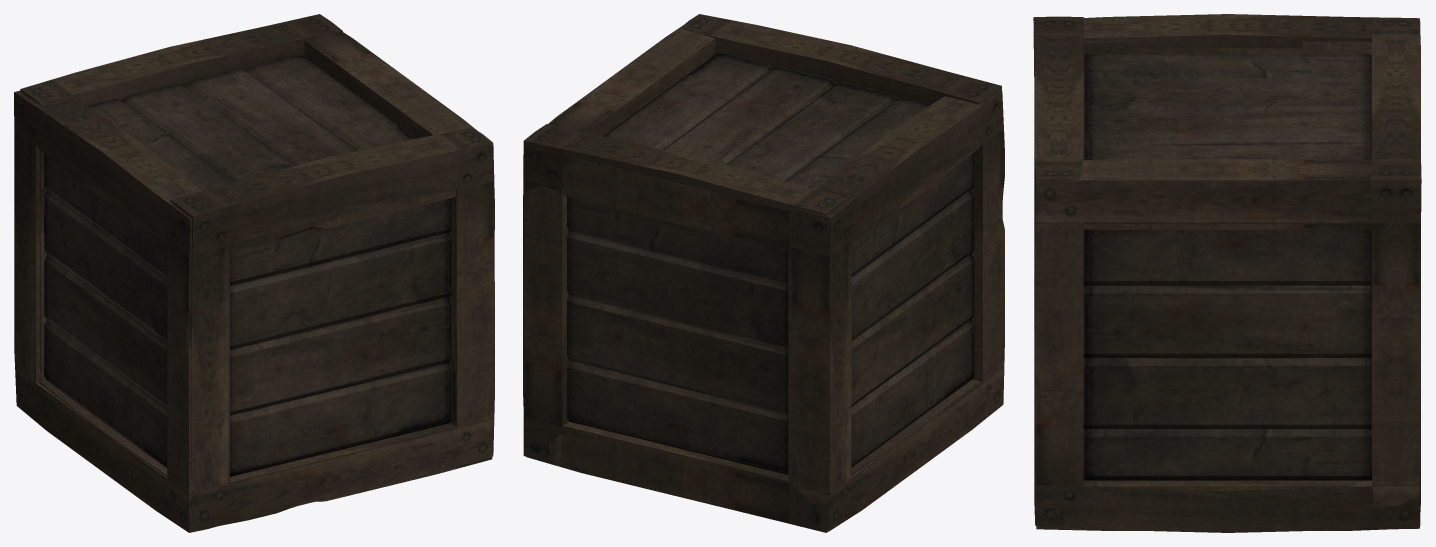
Rendered from BoxTest.fbx.
The picture shows the model from 3 angles, left to right: view 1: azimuth 30°, elevation 25°; view 2: azimuth 150°, elevation 25°; view 3: azimuth 270°, elevation 25°; orthographic projection. The views are drawn at different scales.
Visible parts, largest first — view 1: wooden_crate_5.003, wooden_crate_5.004, wooden_crate_5, wooden_crate_5.002, wooden_crate_5.005, wooden_crate_5.001; view 2: wooden_crate_5.004, wooden_crate_5.002, wooden_crate_5, wooden_crate_5.005, wooden_crate_5.001, wooden_crate_5.003; view 3: wooden_crate_5.005, wooden_crate_5, wooden_crate_5.002, wooden_crate_5.003, wooden_crate_5.004, wooden_crate_5.001.
Part boxes in pixels (box(x1,y1,x2,y2)): wooden_crate_5.003: box(170, 128, 494, 526); wooden_crate_5.004: box(14, 90, 215, 532); wooden_crate_5: box(39, 45, 456, 251); wooden_crate_5.002: box(20, 14, 342, 381); wooden_crate_5.005: box(304, 31, 494, 462); wooden_crate_5.001: box(39, 380, 492, 530); wooden_crate_5.004: box(791, 90, 1004, 531); wooden_crate_5.002: box(523, 124, 846, 486); wooden_crate_5: box(561, 43, 979, 250); wooden_crate_5.005: box(523, 26, 715, 462); wooden_crate_5.001: box(526, 379, 979, 532); wooden_crate_5.003: box(679, 14, 1002, 360); wooden_crate_5.005: box(1035, 159, 1420, 532); wooden_crate_5: box(1083, 35, 1420, 229); wooden_crate_5.002: box(1371, 17, 1421, 506); wooden_crate_5.003: box(1033, 16, 1083, 526); wooden_crate_5.004: box(1083, 14, 1420, 48); wooden_crate_5.001: box(1036, 481, 1420, 530).
Size of the model in its own units: 110 by 110 by 109.
Materials: 1 (1 with a texture image).
